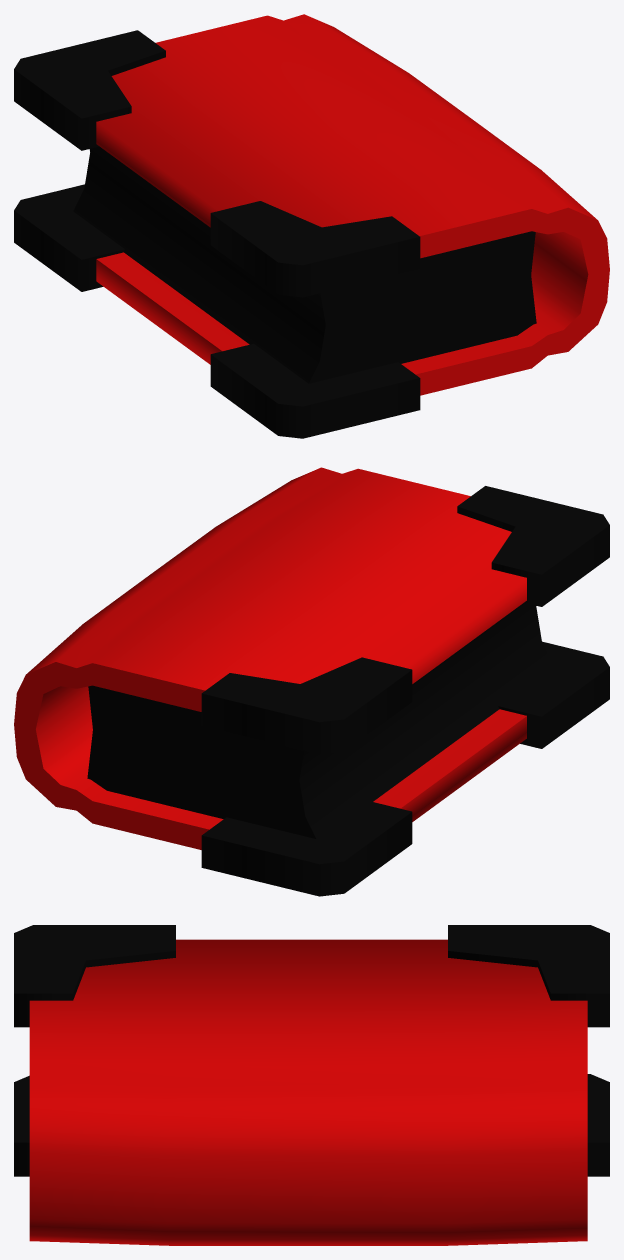
File: Book_I.fbx
The picture shows the model from 3 angles, top to bottom: view 1: azimuth 30°, elevation 25°; view 2: azimuth 150°, elevation 25°; view 3: azimuth 270°, elevation 25°; orthographic projection. The views are drawn at different scales.
Parts seen in each view (by area): view 1: U_Book_I; view 2: U_Book_I; view 3: U_Book_I.
Part boxes in pixels (x1,y1,x2,y2): U_Book_I: (14,14,609,438); U_Book_I: (14,467,609,896); U_Book_I: (14,925,609,1245).
Bounding box in the file's own units: 43.37 × 21.16 × 62.46.
